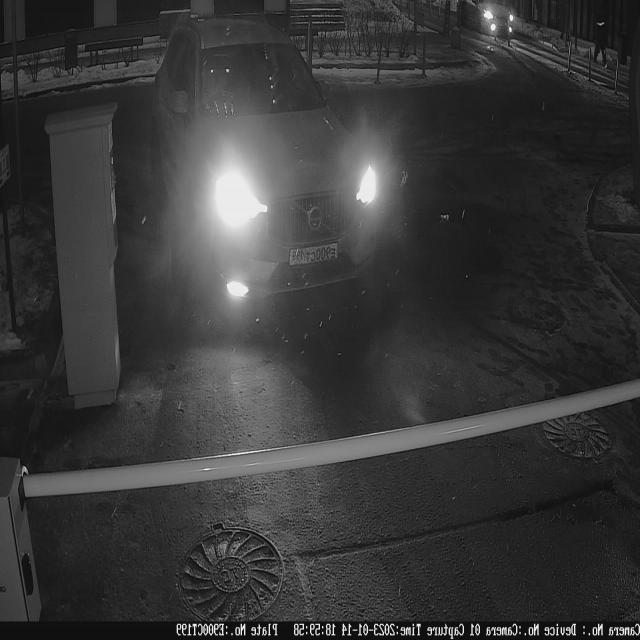car-plate-numbers: (288, 237, 342, 275)
